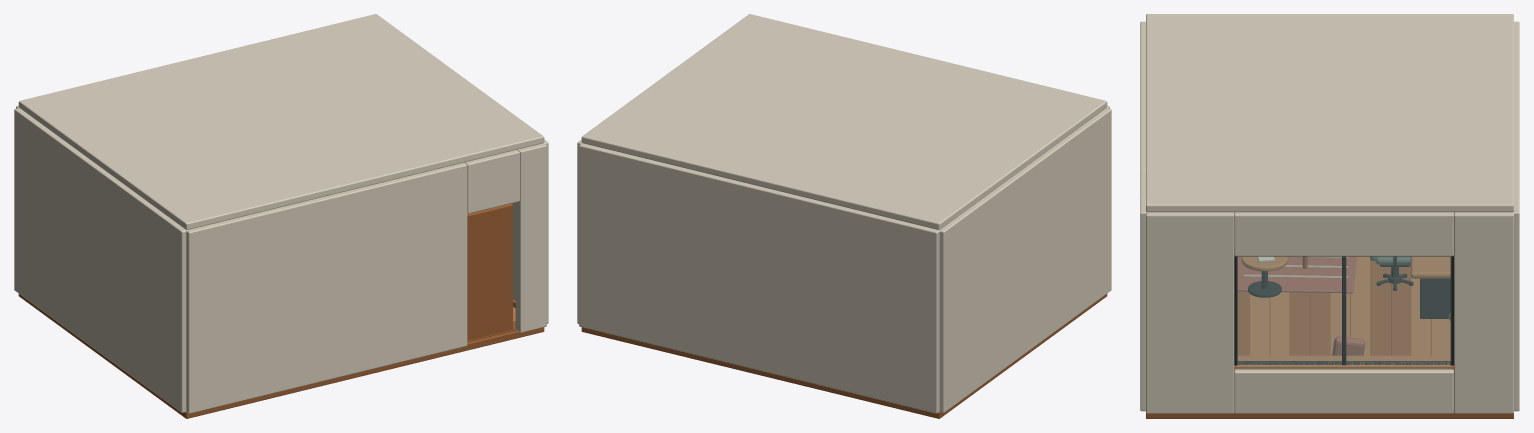
The picture shows the model from 3 angles, left to right: view 1: azimuth 30°, elevation 25°; view 2: azimuth 150°, elevation 25°; view 3: azimuth 270°, elevation 25°; orthographic projection. The views are drawn at different scales.
Parts seen in each view (by area): view 1: architecture.ceiling, architecture.wall.south-left, architecture.wall.west, architecture.door, architecture.wall.south-right, architecture.wall.south-door-header, architecture.floor-slab, architecture.wall.east-south; view 2: architecture.wall.north, architecture.ceiling, architecture.wall.west, architecture.floor-slab; view 3: architecture.ceiling, architecture.window-glass, architecture.wall.east-south, architecture.wall.east-north, architecture.wall.east-window-sill, architecture.wall.east-window-header, architecture.floor-slab, reading.rug, architecture.window-sill-oak, architecture.wall.north, architecture.floor-plank.11, architecture.floor-plank.10 (+20 smaller).
Boxes of the visible parts, <box> form: architecture.ceiling: <box>18,14,544,229</box>; architecture.wall.south-left: <box>186,162,467,413</box>; architecture.wall.west: <box>14,108,186,412</box>; architecture.door: <box>467,203,512,340</box>; architecture.wall.south-right: <box>515,143,546,332</box>; architecture.wall.south-door-header: <box>464,150,519,213</box>; architecture.floor-slab: <box>18,294,544,418</box>; architecture.wall.east-south: <box>511,139,548,323</box>; architecture.wall.north: <box>579,143,939,413</box>; architecture.ceiling: <box>581,14,1107,229</box>; architecture.wall.west: <box>939,108,1111,412</box>; architecture.floor-slab: <box>581,294,1107,418</box>; architecture.ceiling: <box>1146,14,1513,212</box>; architecture.window-glass: <box>1237,256,1451,368</box>; architecture.wall.east-south: <box>1146,212,1234,413</box>; architecture.wall.east-north: <box>1454,212,1513,413</box>; architecture.wall.east-window-sill: <box>1234,369,1453,413</box>; architecture.wall.east-window-header: <box>1234,212,1453,256</box>; architecture.floor-slab: <box>1146,259,1513,418</box>; reading.rug: <box>1237,256,1356,293</box>; architecture.window-sill-oak: <box>1234,355,1453,369</box>; architecture.wall.north: <box>1513,21,1519,411</box>; architecture.floor-plank.11: <box>1371,260,1390,355</box>; architecture.floor-plank.10: <box>1350,256,1369,355</box>.
Size of the model in its own units: 6.56 by 3.34 by 5.36.
